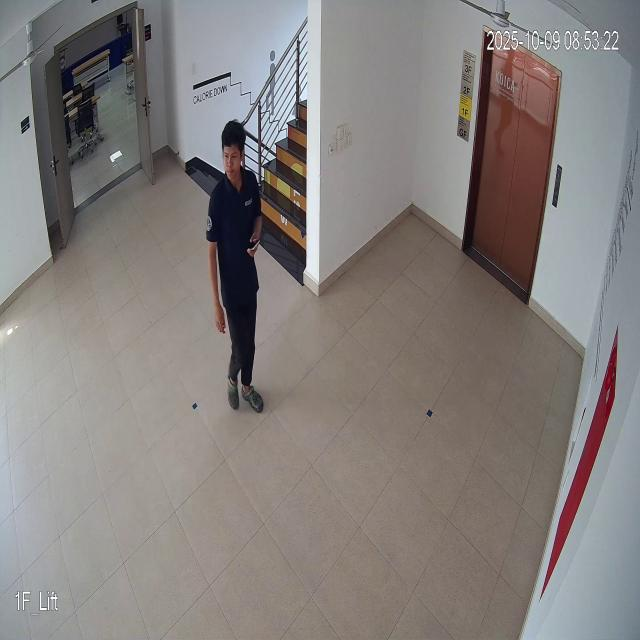face: (216, 118, 249, 189)
